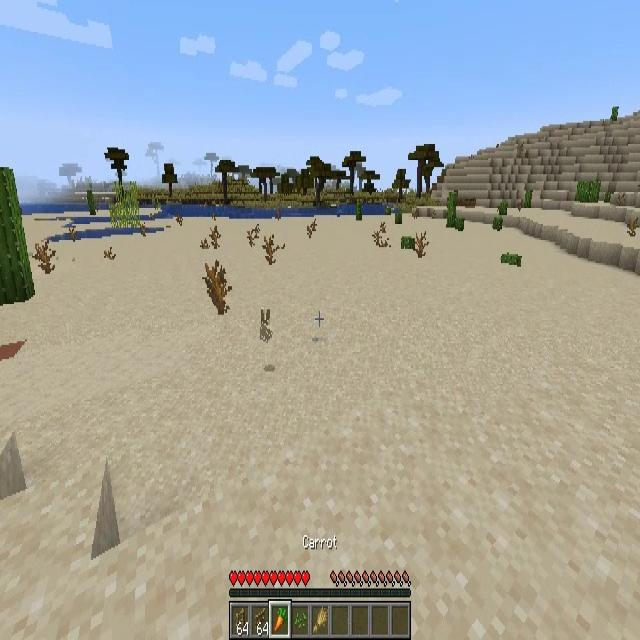rabbit: (258, 305, 274, 347)
